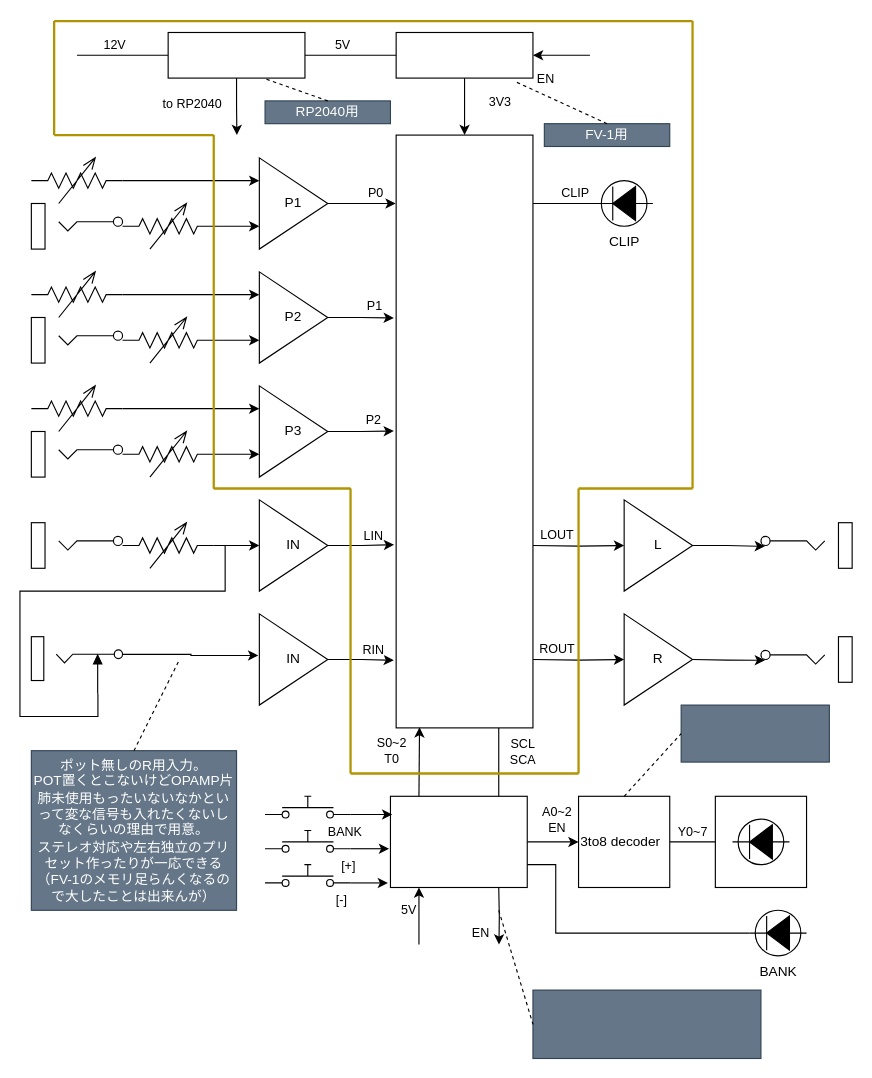
Some shapes in this 872 by 1078 pixel diagram are drawn without their labels. Each missing label, with the box of its shape:
3V3 Reg.: (395, 31, 533, 78)
5V Reg.: (167, 31, 305, 78)
FV-1: (395, 134, 533, 728)
FV-1電源投入～起動完了とzeroのそれとは差があって、EEPROMエミュを確実に動作させるためFV-1用電源をON/OFF制御する: (532, 989, 761, 1058)
PROG No.: (714, 795, 807, 887)
RP2040 Zero: (389, 795, 527, 887)
レイアウトの都合上Zeroのピン全部を使えないため: (680, 704, 829, 762)
